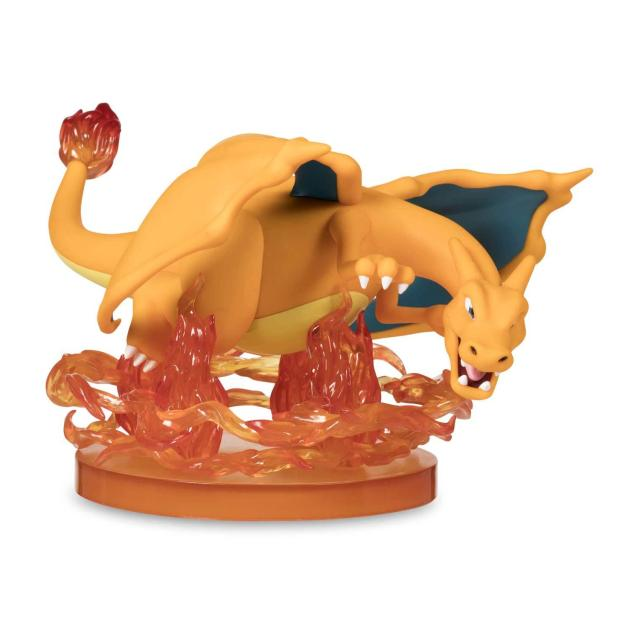Charizard: (91, 136, 585, 419)
